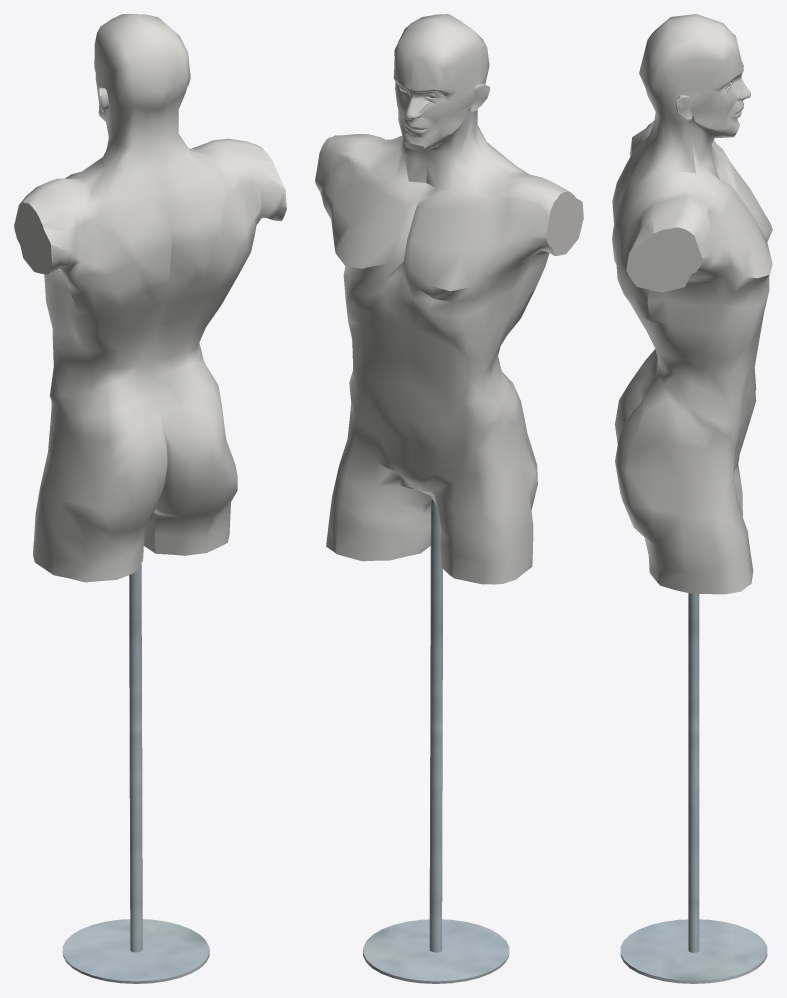
The model's file is StoreMannequin.fbx.
The picture shows the model from 3 angles, left to right: view 1: azimuth 30°, elevation 25°; view 2: azimuth 150°, elevation 25°; view 3: azimuth 270°, elevation 25°; orthographic projection.
Parts seen in each view (by area): view 1: MOB-002_Plastique - Blanc brillant_0.001, object 1; view 2: MOB-002_Plastique - Blanc brillant_0.001, object 1; view 3: MOB-002_Plastique - Blanc brillant_0.001, object 1.
Part boxes in pixels (box(x1,y1,x2,y2)): MOB-002_Plastique - Blanc brillant_0.001: box(14, 14, 286, 582); object 1: box(62, 563, 209, 983); MOB-002_Plastique - Blanc brillant_0.001: box(315, 14, 583, 584); object 1: box(363, 499, 509, 983); MOB-002_Plastique - Blanc brillant_0.001: box(612, 14, 772, 594); object 1: box(620, 593, 767, 983).
Bounding box in the file's own units: 41.15 × 158 × 24.61.
